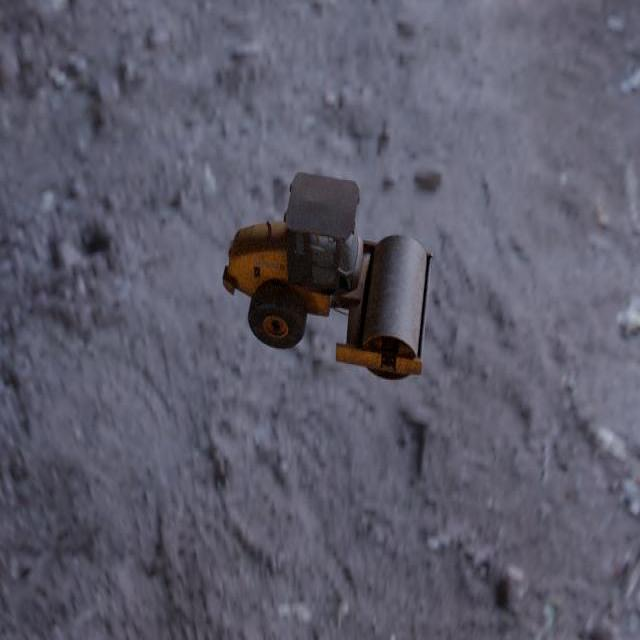Roller: (221, 171, 433, 380)
